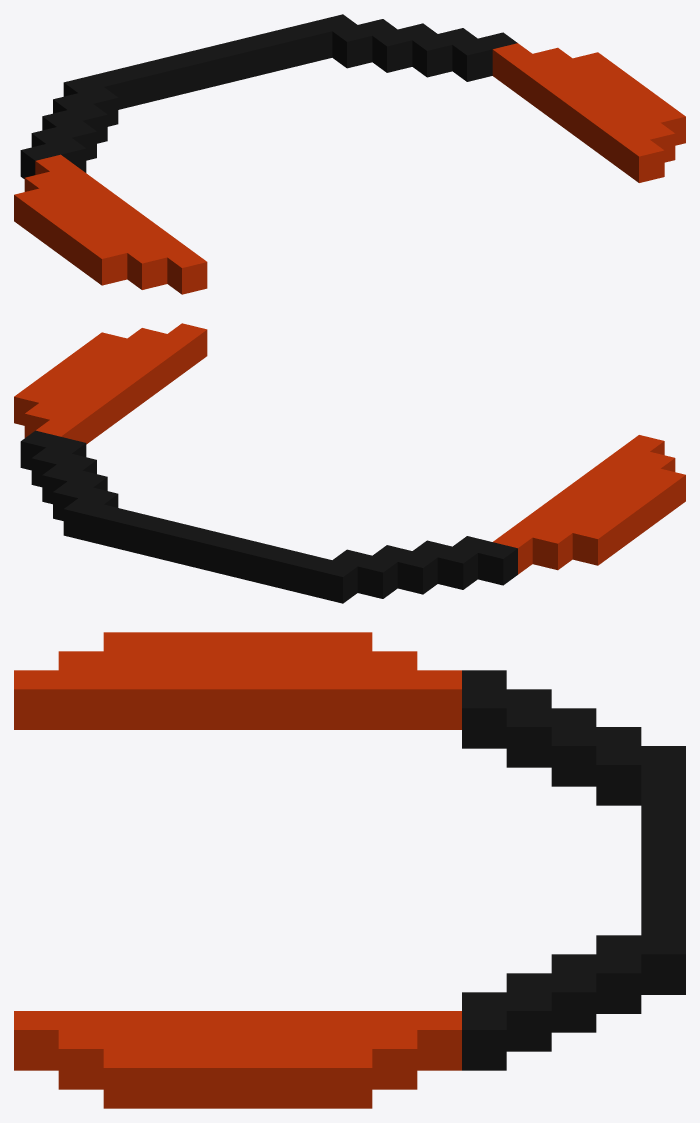
File: halp-2.obj
3 views of the same model, one above another, from view 1: azimuth 30°, elevation 25°; view 2: azimuth 150°, elevation 25°; view 3: azimuth 270°, elevation 25° (orthographic). The views are drawn at different scales.
Size of the model in its own units: 2.3 by 0.1 by 1.5.
Materials: 1 (1 with a texture image).
